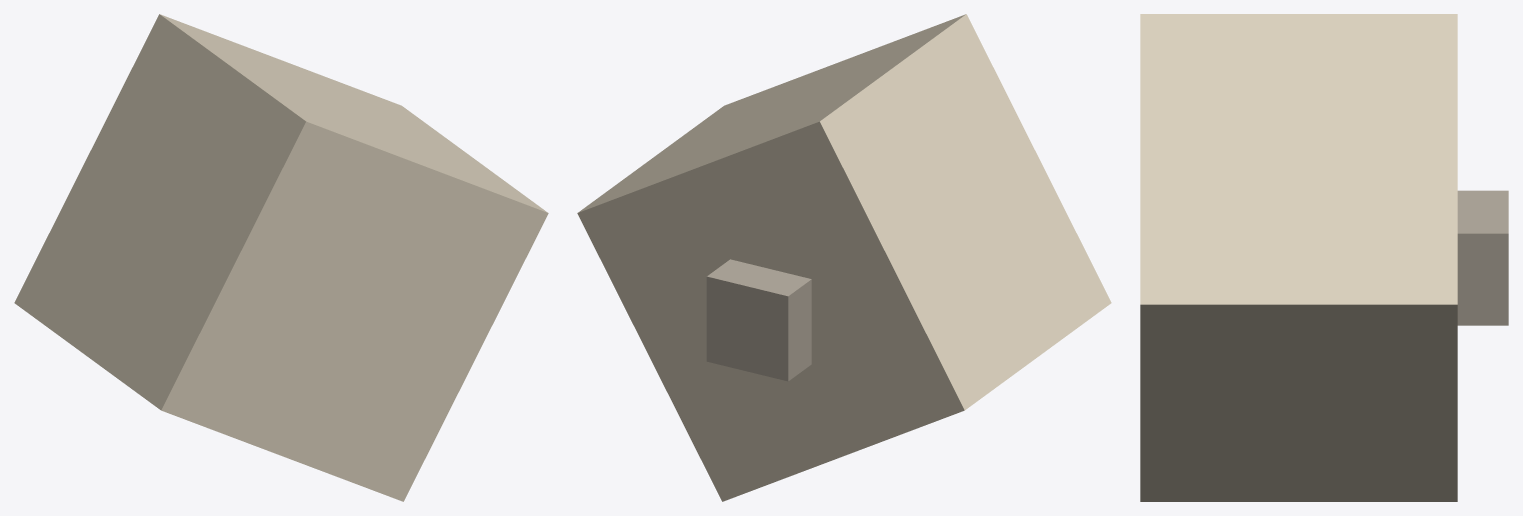
The model's file is historic-palestine-04_23_3459_3174.glb.
3 renders of one model, left to right at view 1: azimuth 30°, elevation 25°; view 2: azimuth 150°, elevation 25°; view 3: azimuth 270°, elevation 25°, orthographic. The views are drawn at different scales.
Parts seen in each view (by area): view 1: Building_; view 2: Building_, Roof access hut; view 3: Building_, Roof access hut.
Part boxes in pixels (x1,y1,x2,y2): Building_: (14, 14, 548, 501); Building_: (577, 14, 1111, 501); Roof access hut: (706, 259, 811, 381); Building_: (1140, 14, 1457, 501); Roof access hut: (1457, 190, 1508, 325).
Bounding box in the file's own units: 11.43 × 11.39 × 8.7.
